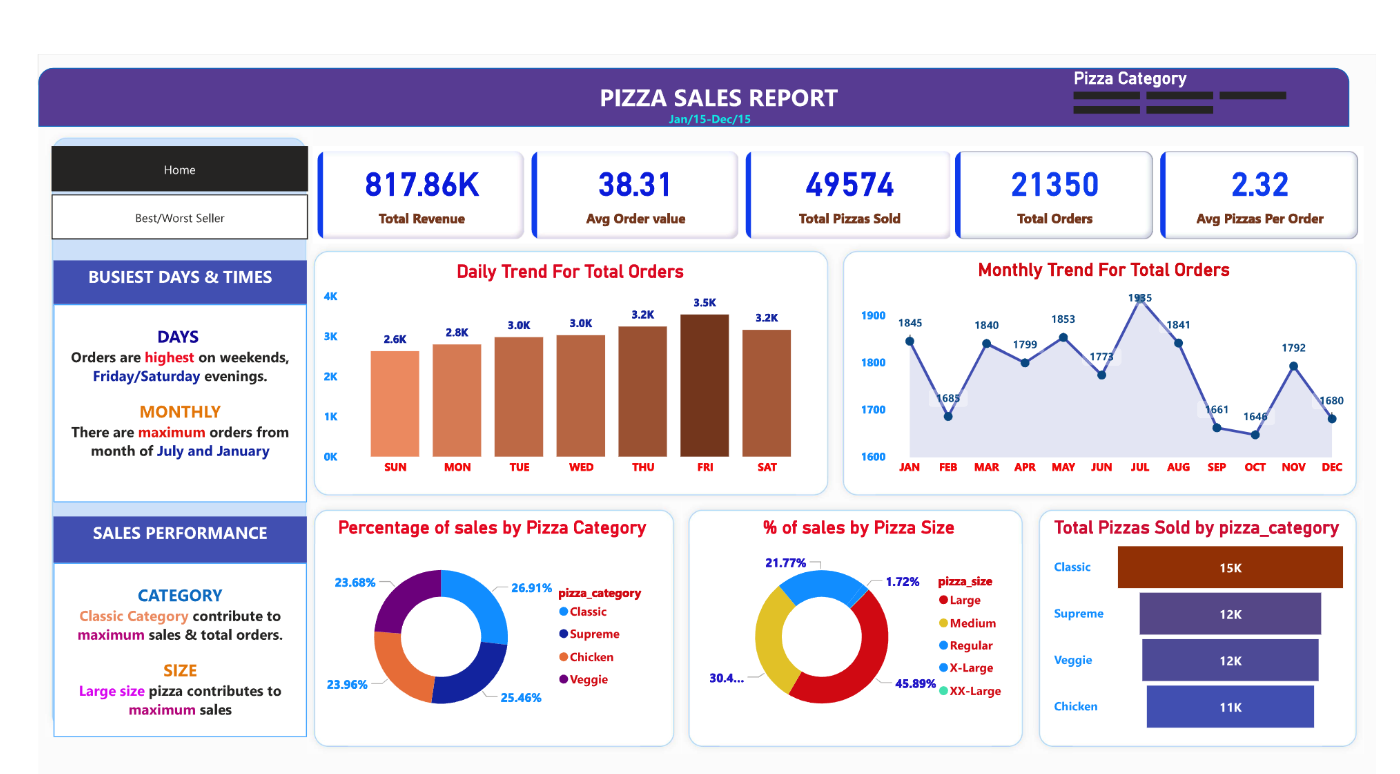

The dashboard page shown, as its layout file describes it:
{"tool":"powerbi","page":{"name":"Page 1","canvas":[1500,820],"ordinal":0},"visuals":[{"type":"shape","box":[16.6,83,271.1,735.8],"z":0},{"type":"cardVisual","fields":{"Data":["pizza_sales (2).Total Revenue","pizza_sales (2).Average Order Value","pizza_sales (2).Total Pizzas Sold"]},"box":[290,83.3,706.7,155],"z":1000},{"type":"cardVisual","fields":{"Data":["pizza_sales (2).Total Orders","pizza_sales (2).avg Pizzas Per Order"]},"box":[996.7,83.3,480,155],"z":2000},{"type":"shape","box":[18.3,15,1458.3,68.3],"z":3000},{"type":"textbox","box":[605,23.3,261.7,51.7],"z":4000},{"type":"textbox","box":[673.3,58.3,153.3,33.3],"z":5000},{"type":"image","box":[586.7,33.3,38.3,41.7],"z":6000},{"type":"shape","box":[290,238.3,565,310],"z":7000},{"type":"columnChart","title":"Daily Trend for Total Orders","fields":{"Category":["pizza_sales (2).Order Day"],"Y":["pizza_sales (2).Total Orders"]},"box":[304.3,254.5,533,276.6],"z":8000},{"type":"shape","box":[853.8,237.9,621.5,309.8],"z":9000},{"type":"areaChart","title":"Monthly Trend for Total Orders","fields":{"Category":["pizza_sales (2).Order Month"],"Y":["pizza_sales (2).Total Orders"]},"box":[866.7,254.5,593.8,276.6],"z":10000},{"type":"shape","box":[289.5,547.7,398.3,272.9],"z":11000},{"type":"shape","box":[687.9,536.6,394.6,284],"z":12000},{"type":"shape","box":[1082.5,536.6,392.8,284],"z":13000},{"type":"donutChart","title":"% of Sales by   Pizza Category","fields":{"Y":["pizza_sales (2).Total Revenue"],"Category":["pizza_sales (2).pizza_category"]},"box":[308,564.3,365.1,236],"z":14000},{"type":"donutChart","title":"% of Sales by  Pizza Size","fields":{"Y":["pizza_sales (2).Total Revenue"],"Category":["pizza_sales (2).pizza_size"]},"box":[702.6,547.7,365.1,252.6],"z":15000},{"type":"funnel","title":"Total Pizzas Sold by Pizza_Category","fields":{"Y":["pizza_sales (2).Total Pizzas Sold"],"Category":["pizza_sales (2).pizza_category"]},"box":[1095.4,547.7,365.1,252.6],"z":16000},{"type":"textbox","box":[31.4,518.2,243.4,46.1],"z":17000},{"type":"textbox","box":[31.4,564.3,243.4,236],"z":18000},{"type":"textbox","box":[31.4,178.9,243.4,33.2],"z":19000},{"type":"textbox","box":[31.4,212.1,243.4,269.2],"z":20000},{"type":"slicer","fields":{"Values":["pizza_sales (2).pizza_category"]},"box":[31.4,92.2,243.4,60.9],"z":21000}]}

Visuals, with their boxes in screenshot pixels (x1, y1, x2, y2), scaled from the page's 1500x820 canvas onto the 1400x774 screenshot:
shape: x1=15 y1=78 x2=269 y2=773
cardVisual - pizza_sales (2).Total Revenue x pizza_sales (2).Average Order Value: x1=271 y1=79 x2=930 y2=225
cardVisual - pizza_sales (2).Total Orders x pizza_sales (2).avg Pizzas Per Order: x1=930 y1=79 x2=1378 y2=225
shape: x1=17 y1=14 x2=1378 y2=79
textbox: x1=565 y1=22 x2=809 y2=71
textbox: x1=628 y1=55 x2=771 y2=86
image: x1=548 y1=31 x2=583 y2=71
shape: x1=271 y1=225 x2=798 y2=518
"Daily Trend for Total Orders" columnChart: x1=284 y1=240 x2=781 y2=501
shape: x1=797 y1=225 x2=1377 y2=517
"Monthly Trend for Total Orders" areaChart: x1=809 y1=240 x2=1363 y2=501
shape: x1=270 y1=517 x2=642 y2=773
shape: x1=642 y1=506 x2=1010 y2=773
shape: x1=1010 y1=506 x2=1377 y2=773
"% of Sales by   Pizza Category" donutChart: x1=287 y1=533 x2=628 y2=755
"% of Sales by  Pizza Size" donutChart: x1=656 y1=517 x2=997 y2=755
"Total Pizzas Sold by Pizza_Category" funnel: x1=1022 y1=517 x2=1363 y2=755
textbox: x1=29 y1=489 x2=256 y2=533
textbox: x1=29 y1=533 x2=256 y2=755
textbox: x1=29 y1=169 x2=256 y2=200
textbox: x1=29 y1=200 x2=256 y2=454
slicer - pizza_sales (2).pizza_category: x1=29 y1=87 x2=256 y2=145
